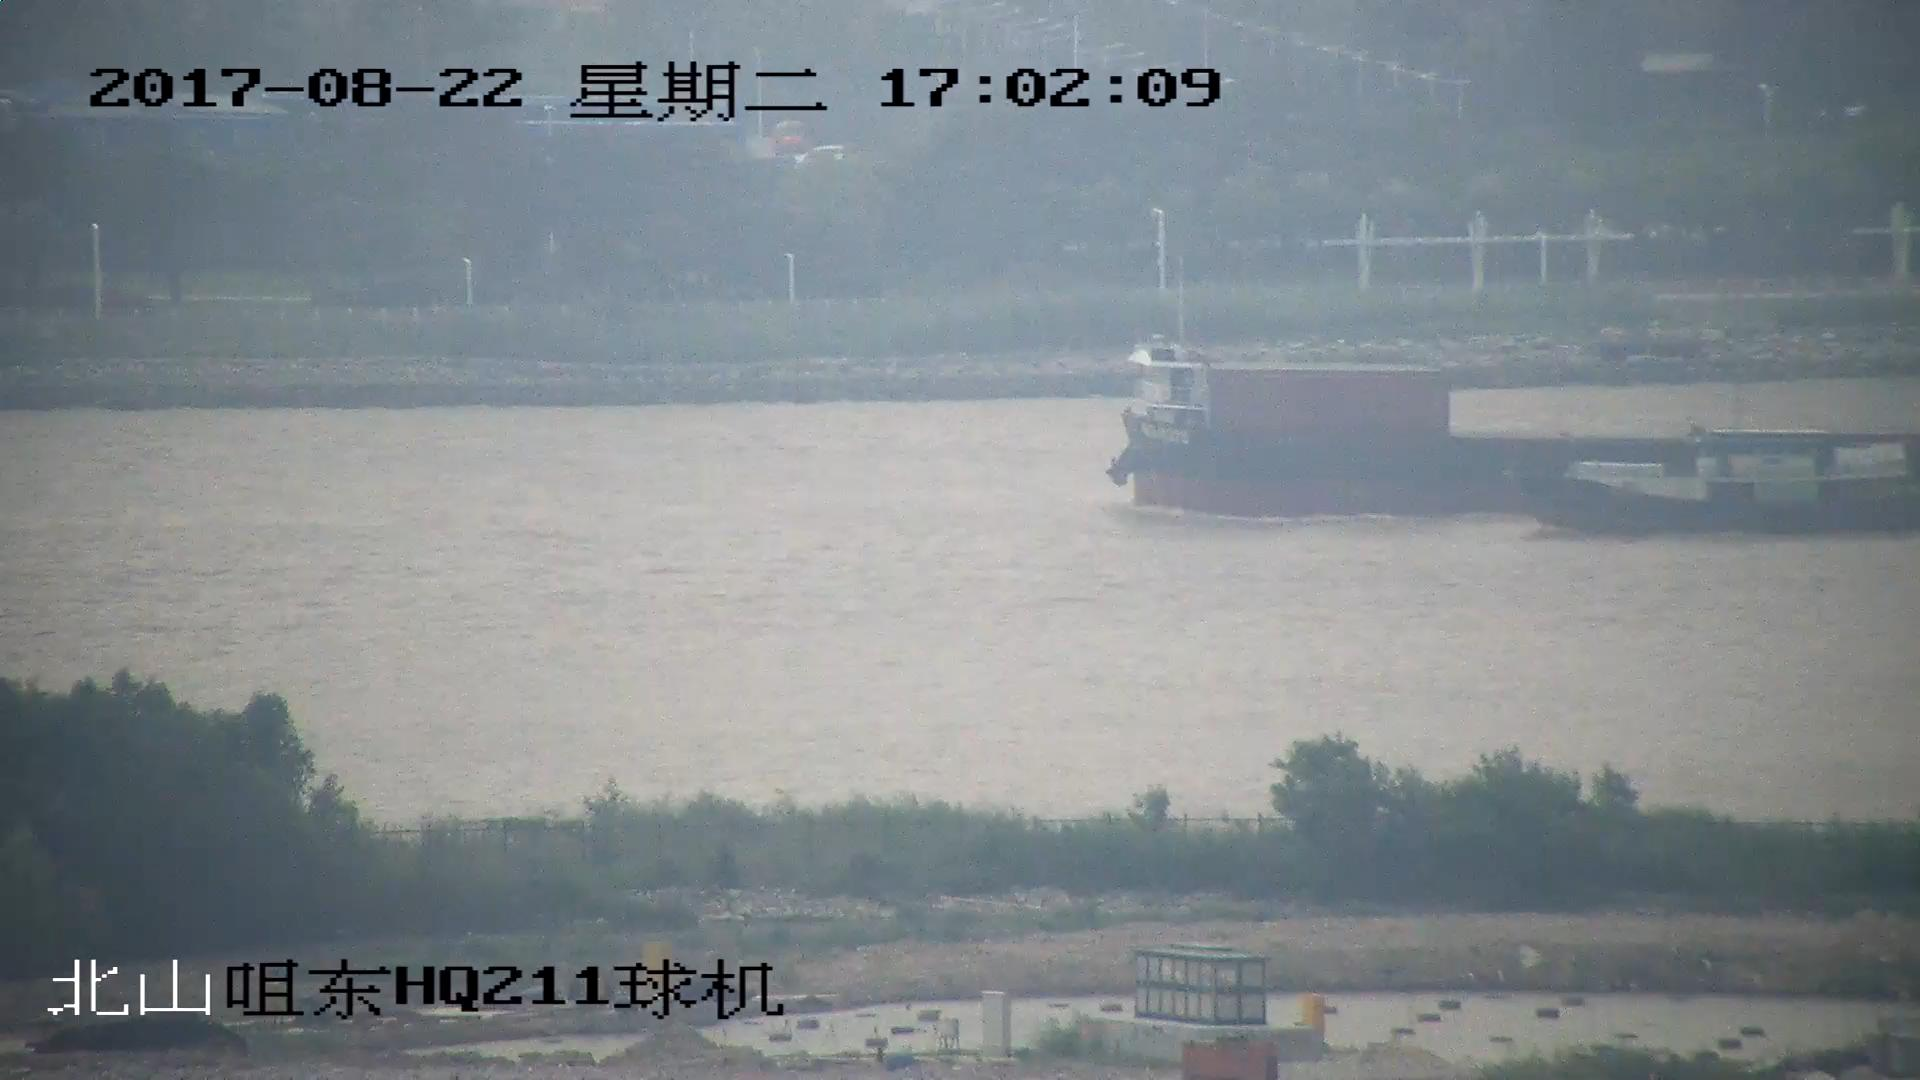fishing boat: (1519, 429, 1920, 542)
general cargo ship: (1102, 346, 1920, 512)
